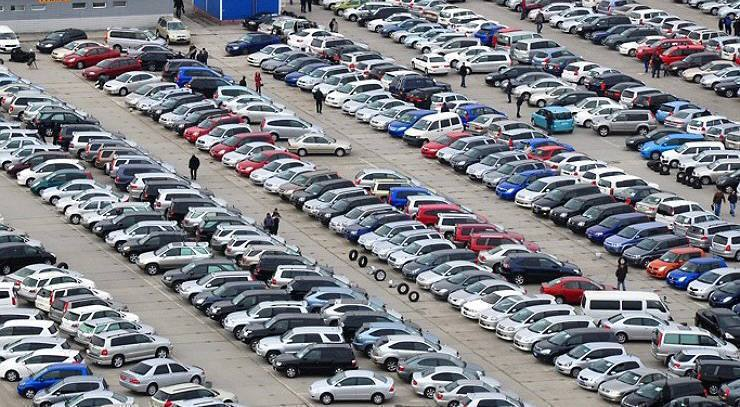Car: (652, 324, 740, 366), (371, 335, 461, 372), (223, 300, 308, 339), (119, 358, 206, 396), (351, 321, 440, 358), (255, 327, 346, 363), (239, 313, 326, 350), (580, 291, 673, 325), (87, 331, 172, 368), (512, 315, 596, 352), (309, 369, 395, 405), (208, 289, 288, 327), (411, 366, 502, 399), (495, 304, 576, 341), (532, 328, 617, 363), (272, 344, 359, 378), (478, 294, 556, 331), (0, 349, 87, 382), (397, 352, 486, 384), (336, 311, 422, 344), (192, 281, 270, 317), (597, 367, 675, 403), (498, 253, 582, 285), (253, 254, 334, 287), (17, 363, 93, 398), (619, 377, 705, 407), (135, 242, 213, 275), (59, 305, 139, 337), (554, 343, 627, 378), (179, 271, 253, 305), (600, 312, 681, 343), (576, 355, 645, 391), (162, 259, 237, 292), (31, 375, 108, 407), (433, 379, 520, 407), (75, 317, 155, 347), (447, 279, 527, 309), (225, 235, 302, 266), (16, 272, 95, 302), (402, 249, 476, 281), (466, 232, 542, 263), (320, 299, 404, 327), (105, 221, 180, 252), (531, 184, 601, 217), (92, 211, 166, 242), (622, 234, 689, 268), (120, 231, 191, 263), (371, 229, 442, 261), (48, 294, 129, 322), (34, 283, 112, 312), (239, 244, 317, 273), (603, 222, 671, 255), (4, 263, 84, 291), (166, 198, 243, 227), (540, 276, 617, 305), (80, 202, 154, 232), (289, 177, 356, 210), (358, 220, 427, 252), (181, 207, 257, 236), (430, 271, 506, 300), (416, 261, 492, 290), (314, 195, 385, 226), (150, 382, 237, 407), (387, 239, 457, 270), (345, 210, 410, 243), (549, 193, 614, 226), (210, 225, 286, 253), (514, 175, 578, 208), (328, 203, 396, 234), (666, 256, 728, 290), (285, 276, 369, 301), (153, 189, 228, 217), (140, 180, 215, 208), (114, 164, 189, 192), (567, 203, 634, 234), (403, 112, 464, 146), (270, 264, 352, 289), (585, 212, 649, 244), (667, 349, 740, 377), (17, 158, 87, 187), (68, 131, 137, 160), (52, 124, 126, 151), (302, 186, 368, 216), (433, 212, 506, 239), (465, 150, 528, 181), (0, 241, 57, 275), (128, 173, 202, 199), (277, 170, 339, 201), (415, 203, 488, 229), (31, 110, 101, 137), (460, 290, 523, 320), (41, 179, 113, 205), (495, 169, 555, 200), (647, 247, 705, 279), (55, 189, 129, 214), (0, 337, 71, 363), (694, 307, 740, 347), (590, 110, 658, 137), (104, 154, 177, 179), (449, 224, 525, 248), (659, 141, 726, 168), (6, 151, 73, 178), (483, 160, 545, 189), (693, 357, 740, 395), (686, 267, 740, 300), (184, 112, 243, 142), (158, 98, 217, 128), (324, 79, 387, 107), (640, 133, 705, 160), (302, 287, 367, 314), (222, 141, 289, 167), (209, 132, 276, 158), (235, 150, 299, 177), (195, 216, 270, 239), (250, 158, 316, 184), (147, 92, 206, 121), (451, 143, 510, 172), (30, 169, 93, 196), (0, 144, 65, 170), (8, 93, 68, 121), (403, 196, 473, 220), (436, 136, 496, 164), (259, 115, 323, 141), (371, 178, 436, 203), (103, 27, 168, 52), (388, 76, 453, 101), (65, 196, 121, 225), (686, 220, 740, 250), (354, 168, 421, 192), (0, 319, 59, 346), (170, 108, 226, 136), (626, 127, 688, 152), (478, 244, 533, 272), (195, 123, 252, 150), (103, 70, 164, 95), (677, 150, 740, 174), (228, 101, 296, 123), (287, 133, 352, 156), (82, 55, 144, 79), (263, 165, 316, 193), (655, 200, 706, 229), (596, 174, 660, 197), (388, 109, 437, 139), (512, 37, 566, 64), (421, 130, 473, 158), (495, 128, 561, 150), (306, 35, 369, 58), (355, 98, 415, 122), (312, 71, 365, 98), (23, 101, 88, 123), (124, 81, 179, 107), (484, 64, 546, 87), (162, 58, 224, 81), (272, 56, 331, 80), (495, 30, 544, 58), (604, 27, 661, 51), (575, 15, 632, 39), (50, 391, 135, 407), (62, 45, 121, 68), (588, 73, 647, 96), (634, 192, 686, 218), (573, 103, 629, 127), (296, 65, 352, 89), (455, 51, 513, 74), (668, 51, 721, 76), (270, 19, 325, 43), (174, 67, 236, 88), (342, 90, 394, 115), (672, 211, 722, 237), (213, 86, 272, 108), (136, 88, 192, 111), (184, 76, 240, 99), (635, 38, 696, 59), (500, 72, 558, 94), (632, 93, 690, 115), (370, 105, 419, 131), (85, 138, 132, 165), (225, 32, 282, 54), (542, 152, 596, 175), (682, 60, 736, 83), (513, 78, 569, 100), (691, 159, 740, 184), (487, 120, 548, 140), (366, 13, 427, 33), (95, 146, 148, 169), (220, 95, 287, 113), (531, 105, 574, 133), (613, 186, 663, 210), (51, 39, 105, 61), (388, 187, 437, 211), (455, 104, 508, 126), (390, 23, 445, 44), (246, 43, 296, 66), (445, 45, 495, 68), (36, 28, 88, 50), (261, 51, 313, 73), (339, 51, 396, 71), (324, 45, 381, 65), (284, 62, 331, 86), (687, 115, 734, 139), (457, 392, 532, 407), (416, 32, 467, 54), (287, 29, 345, 48), (378, 18, 432, 38), (528, 86, 577, 108), (357, 7, 410, 27), (591, 24, 638, 46), (655, 100, 704, 121), (619, 87, 668, 108), (563, 97, 617, 116), (513, 138, 577, 154), (403, 29, 454, 49), (156, 15, 191, 44), (664, 108, 706, 132), (0, 84, 45, 106), (578, 167, 629, 186), (431, 37, 482, 56), (342, 2, 393, 21), (561, 13, 607, 34), (549, 7, 595, 28), (700, 66, 740, 90), (619, 36, 667, 56), (560, 160, 609, 179), (710, 230, 740, 261), (126, 43, 187, 58), (466, 114, 509, 135), (659, 45, 704, 65), (405, 86, 444, 109), (562, 61, 601, 84), (708, 280, 740, 308), (411, 53, 451, 75), (472, 21, 507, 46), (531, 48, 577, 67), (381, 70, 422, 91), (686, 29, 729, 49), (628, 8, 670, 28), (0, 230, 44, 249), (704, 36, 740, 59), (429, 93, 470, 113), (138, 51, 178, 71), (584, 67, 624, 87), (545, 56, 585, 76), (604, 83, 646, 102), (546, 91, 599, 106), (1, 90, 42, 109), (0, 307, 43, 325), (528, 3, 573, 20), (354, 60, 396, 78), (706, 122, 740, 144), (0, 137, 46, 153), (446, 15, 489, 32), (527, 145, 570, 162), (664, 396, 729, 407), (242, 12, 281, 30), (659, 20, 698, 38), (437, 9, 478, 26), (597, 0, 640, 16), (420, 5, 460, 22), (257, 17, 296, 34), (367, 65, 411, 80), (171, 398, 244, 407), (455, 20, 493, 37), (0, 128, 43, 143), (526, 0, 572, 14), (409, 0, 449, 16), (715, 168, 740, 193), (718, 379, 740, 407), (333, 0, 371, 16), (492, 28, 522, 48), (644, 16, 681, 32), (0, 24, 20, 53), (700, 0, 737, 15), (611, 3, 652, 16), (715, 77, 740, 98), (0, 70, 32, 85), (0, 282, 17, 309), (718, 0, 740, 20), (446, 100, 481, 112), (673, 26, 708, 38), (0, 224, 29, 238), (721, 42, 740, 62), (507, 0, 536, 12), (725, 130, 740, 151), (0, 77, 26, 87), (581, 0, 601, 12), (322, 0, 345, 10), (398, 0, 419, 10), (0, 121, 26, 129), (688, 0, 709, 8), (0, 66, 17, 75), (731, 303, 740, 317), (496, 0, 508, 7), (386, 0, 400, 6), (735, 51, 740, 66), (675, 0, 688, 3)
